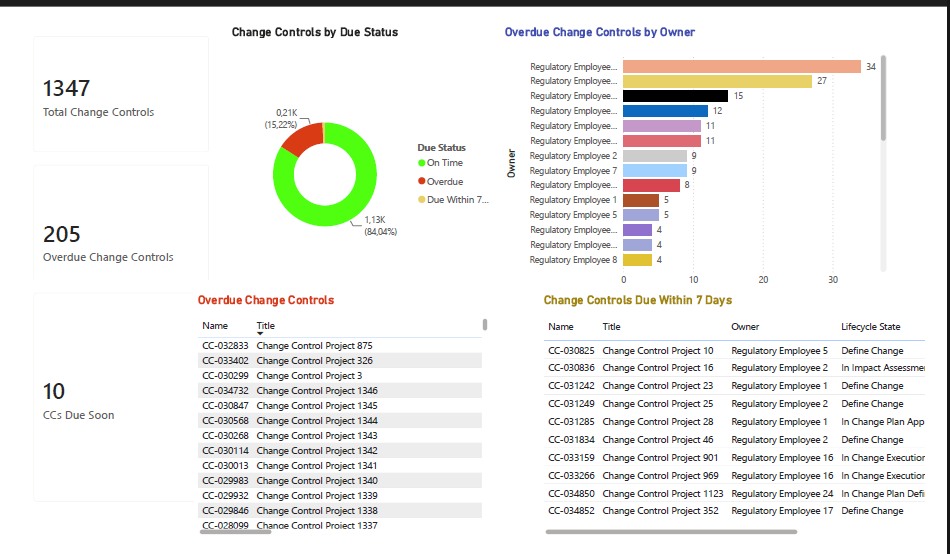

This screenshot's page, from the dashboard's own definition file:
{"tool":"powerbi","page":{"name":"Page 1","canvas":[1280,720],"ordinal":0},"visuals":[{"type":"cardVisual","fields":{"Data":["Change Controls.Total Change Controls"]},"box":[9.4,0,279.7,196.5],"z":0},{"type":"cardVisual","fields":{"Data":["Change Controls.Overdue Change Controls"]},"box":[9.4,179.5,279.7,245.7],"z":1000},{"type":"cardVisual","fields":{"Data":["Change Controls.Due Soon CCS"]},"box":[9.4,359.1,279.7,326.9],"z":2000},{"type":"donutChart","title":"Change Controls by Due Status","fields":{"Category":["Change Controls.Due Status"],"Y":["CountNonNull(Change Controls.Name)"]},"box":[298.6,0,381.7,391.2],"z":3000},{"type":"tableEx","title":"Overdue Change Controls","fields":{"Values":["Change Controls.Name","Change Controls.Title","Change Controls.Subdepartment","Change Controls.Owner","Change Controls.Actual Due Date","Change Controls.Lifecycle State","Change Controls.Due Status","Sum(Change Controls.Days Open)","Change Controls.CCs Due Soon"]},"box":[251.3,376.1,415.8,343.9],"z":4000},{"type":"barChart","fields":{"Category":["Change Controls.Owner"],"Y":["Change Controls.Overdue Change Controls"]},"box":[681,0,543,376],"z":5000},{"type":"tableEx","title":"Change Controls Due Within 7 Days","fields":{"Values":["Change Controls.Name","Change Controls.Title","Change Controls.Owner","Change Controls.Lifecycle State","Change Controls.Actual Due Date","Change Controls.Due Status"]},"box":[735.1,376.1,543,344],"z":6000}]}

Visuals, with their boxes on the page's 1280x720 design canvas (x1, y1, x2, y2). These are canvas units, not pixel positions in the 950x554 screenshot, which may show the page scaled, cropped or inside an application window:
cardVisual - Change Controls.Total Change Controls: left=9, top=0, right=289, bottom=196
cardVisual - Change Controls.Overdue Change Controls: left=9, top=180, right=289, bottom=425
cardVisual - Change Controls.Due Soon CCS: left=9, top=359, right=289, bottom=686
"Change Controls by Due Status" donutChart: left=299, top=0, right=680, bottom=391
"Overdue Change Controls" tableEx: left=251, top=376, right=667, bottom=720
barChart - Change Controls.Owner x Change Controls.Overdue Change Controls: left=681, top=0, right=1224, bottom=376
"Change Controls Due Within 7 Days" tableEx: left=735, top=376, right=1278, bottom=720
